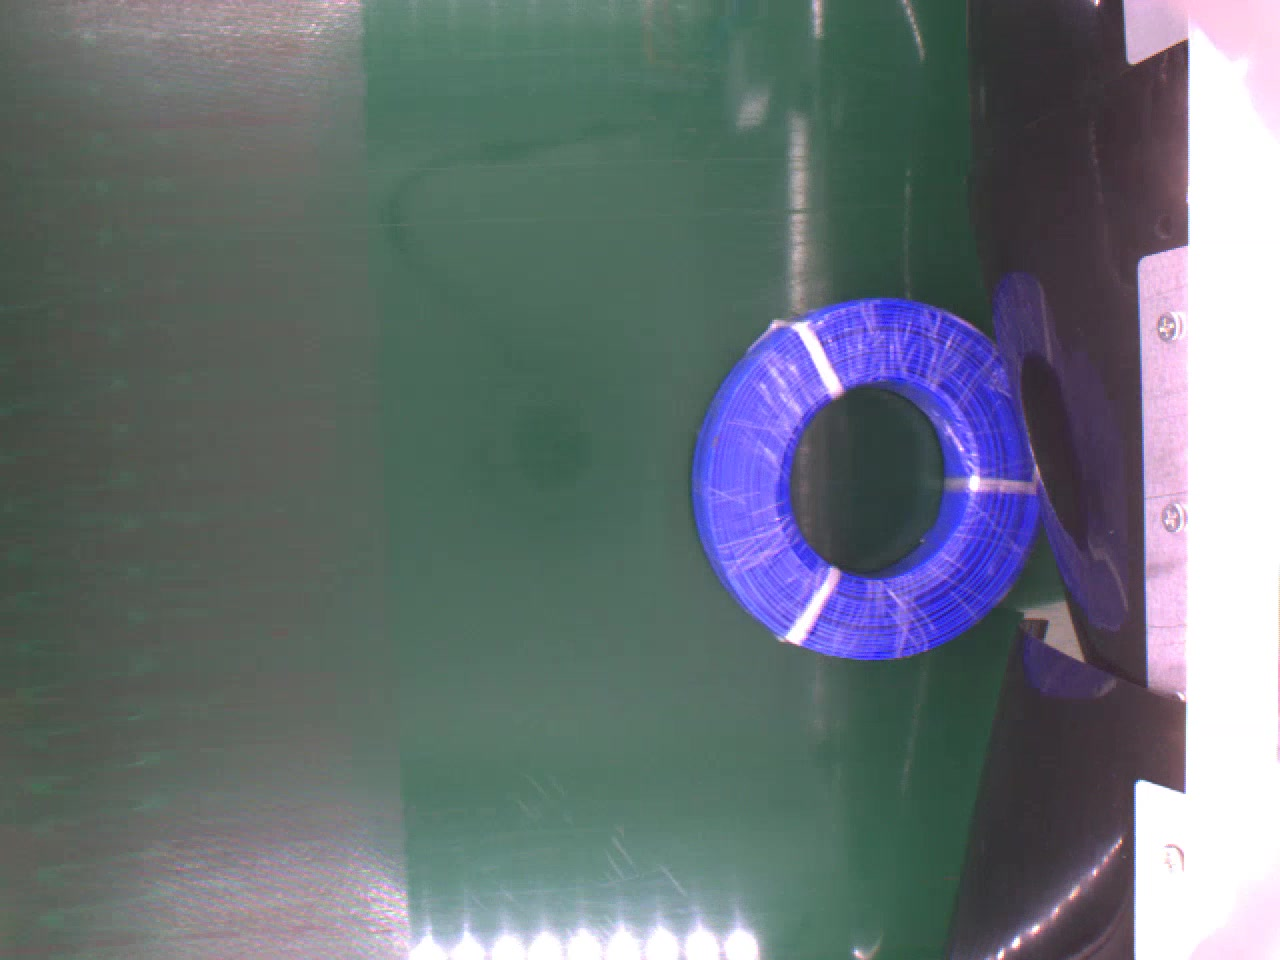blue: (690, 294, 1043, 655)
